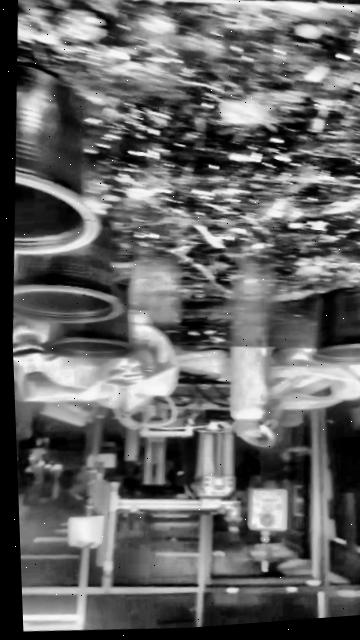pot: (6, 53, 139, 256), (12, 225, 121, 321), (48, 285, 130, 357), (307, 284, 360, 365)
